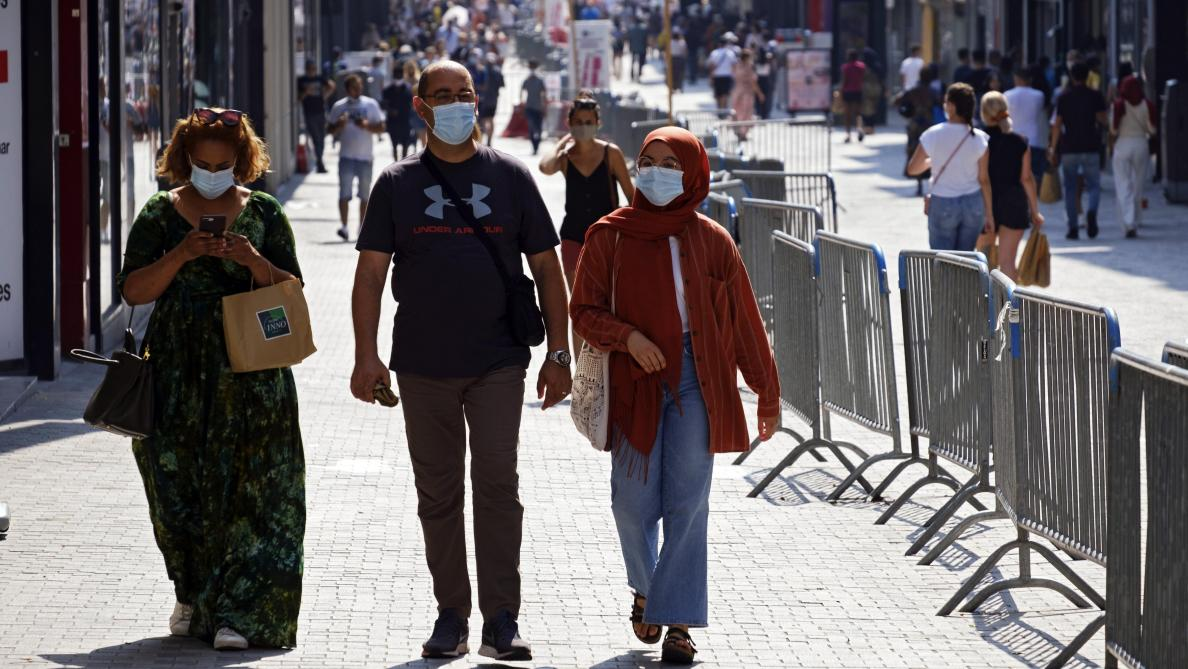with_mask: (428, 84, 475, 141), (637, 152, 682, 207), (193, 151, 233, 194), (571, 111, 601, 138)
